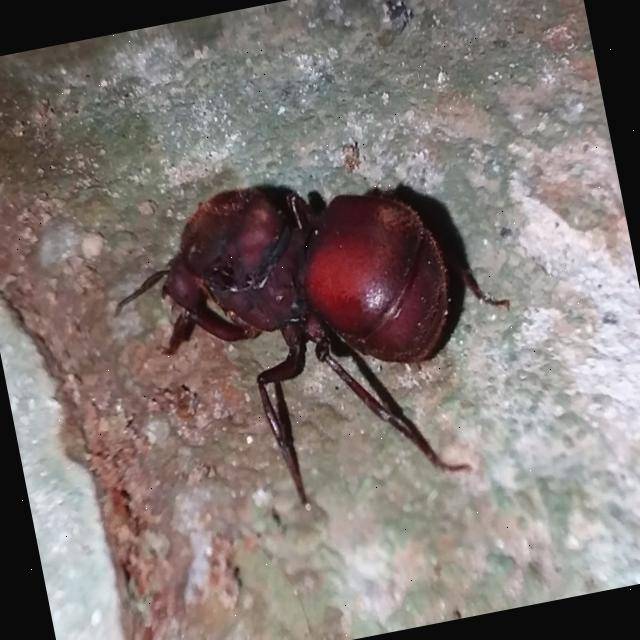Alive-Female-Dealate: (93, 140, 542, 538)
